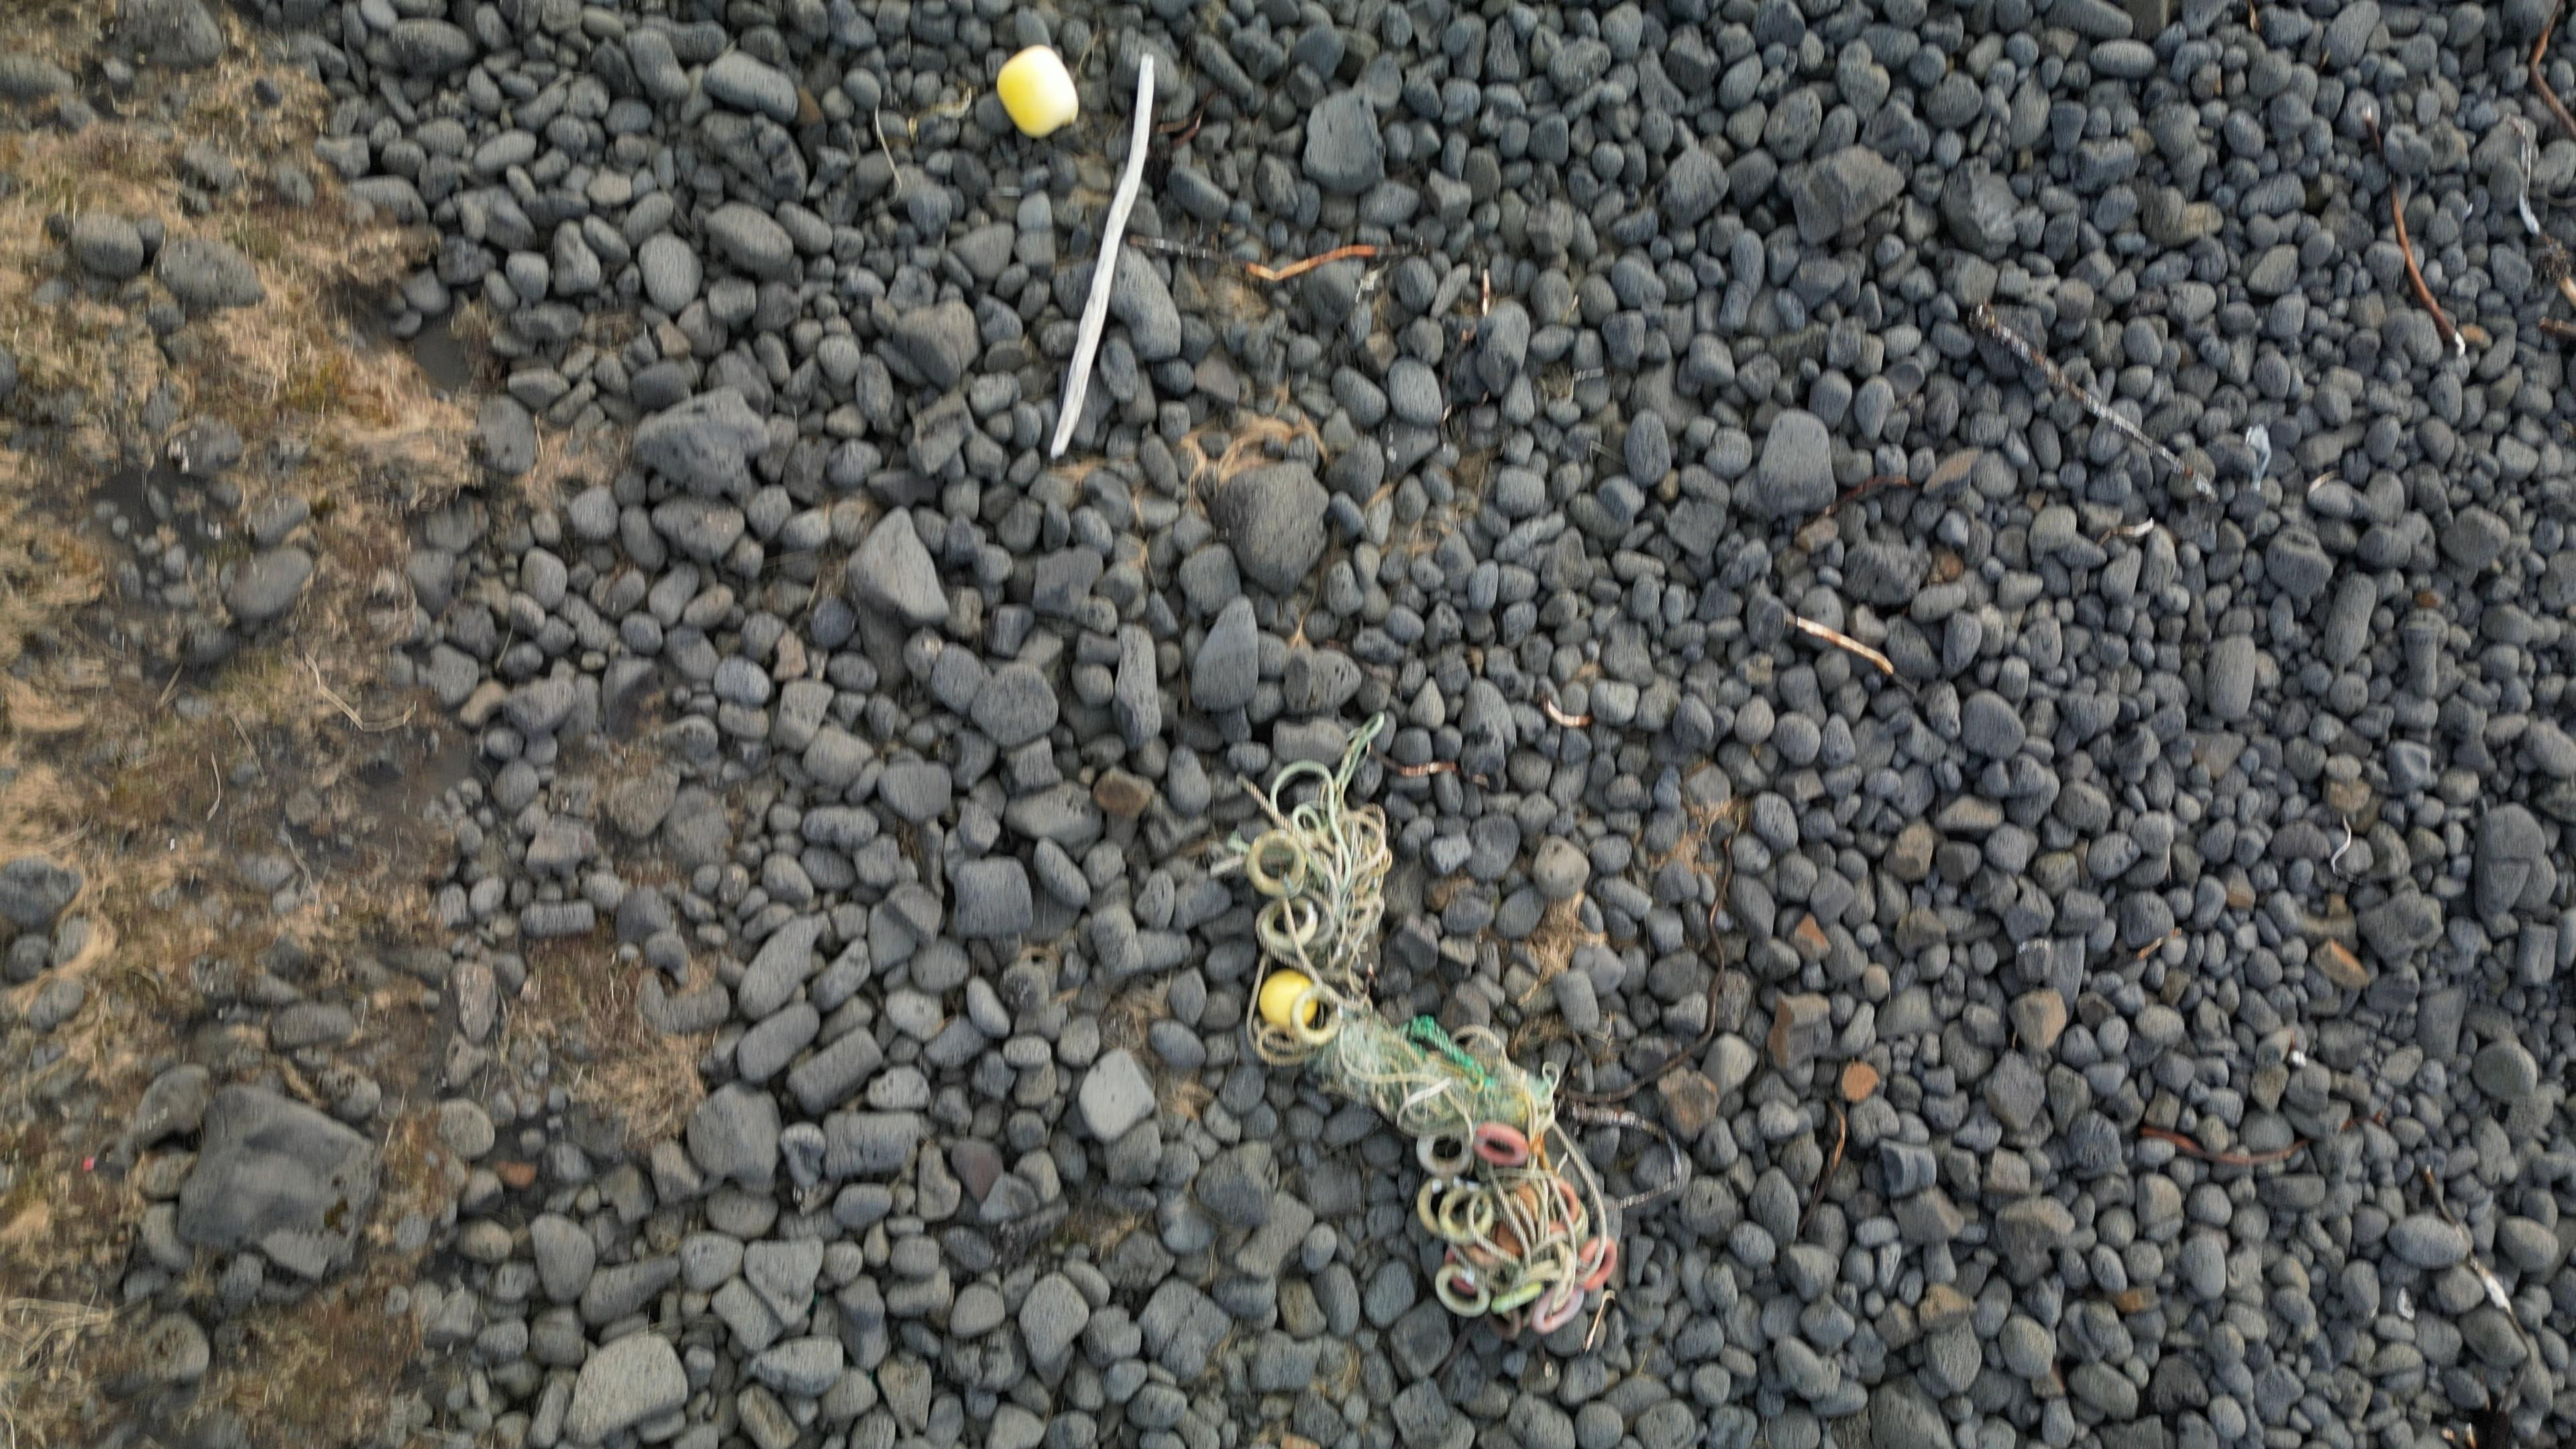trash: (1233, 725, 1615, 1334), (996, 46, 1077, 136)
